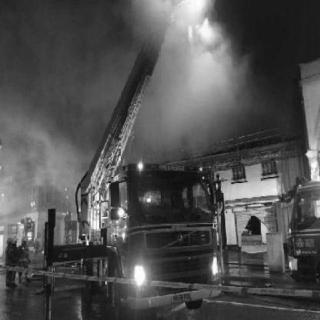Smoke: (160, 43, 244, 129)
